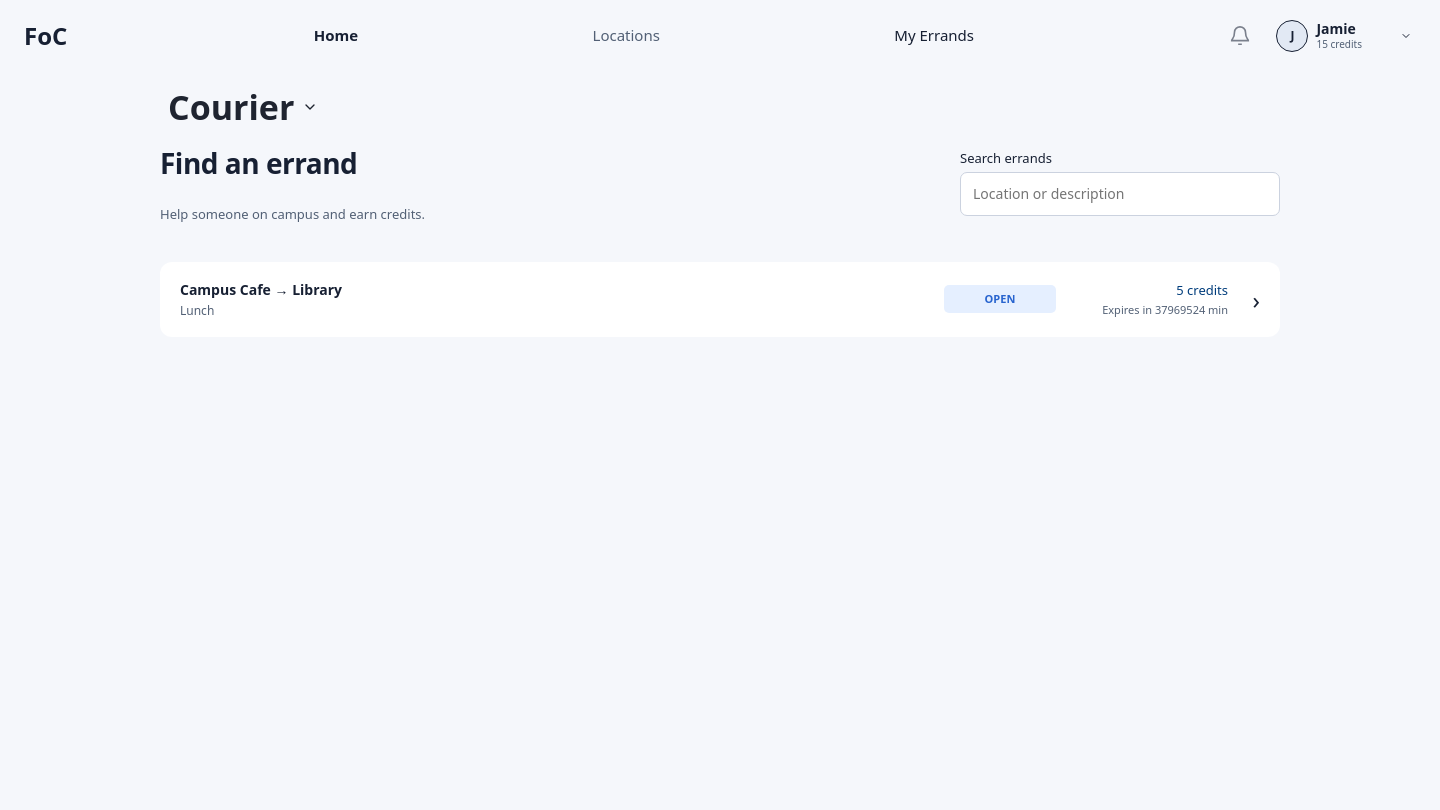
Test: shows account preparation after rejected acceptance without reporting success
Click the link that starts with "Campus Cafe" at (225, 289), box [160, 262, 1280, 337]
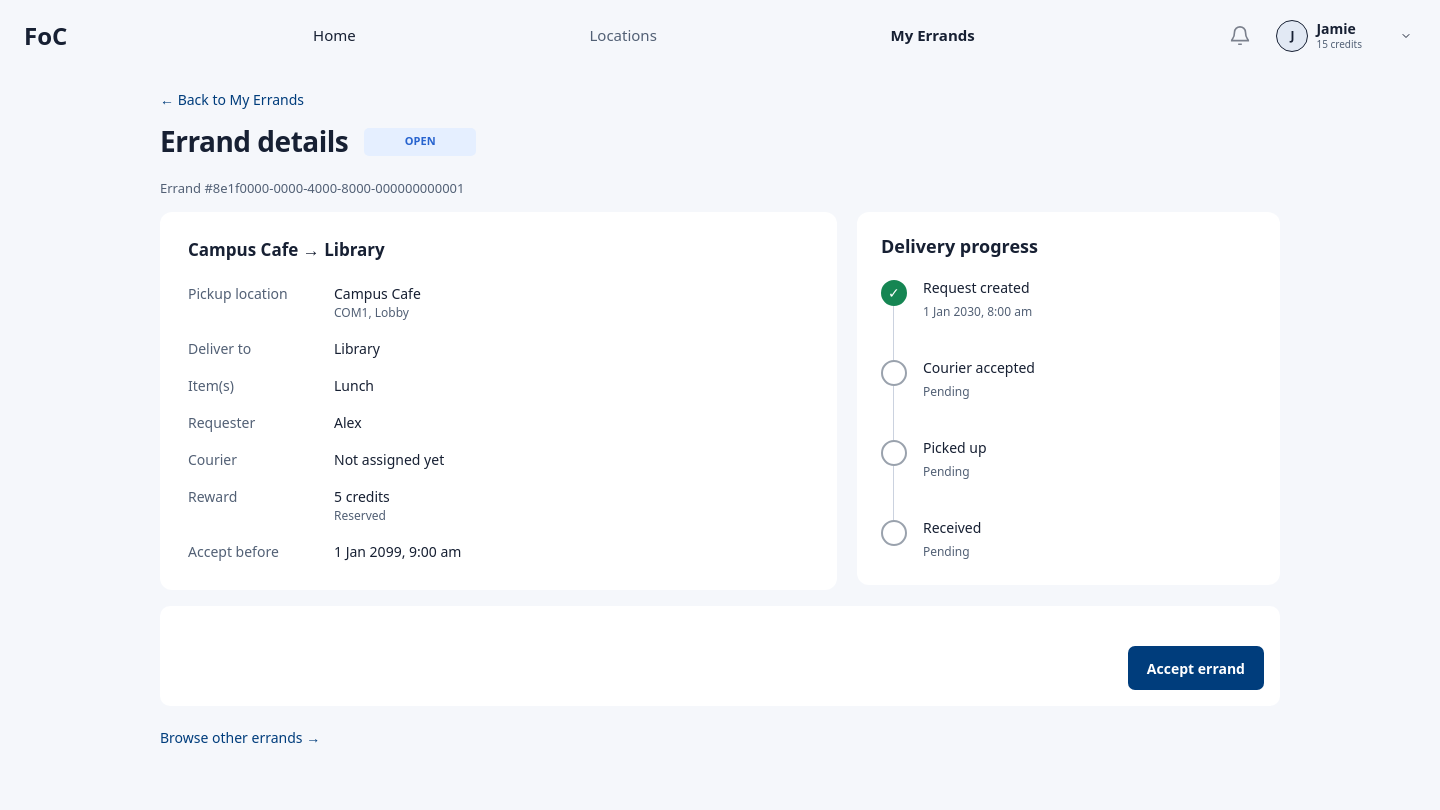
expect the text "COM1, Lobby" is shown: met, box [334, 304, 409, 321]
Click the button "Accept errand" at (1196, 668), box [1128, 646, 1264, 690]
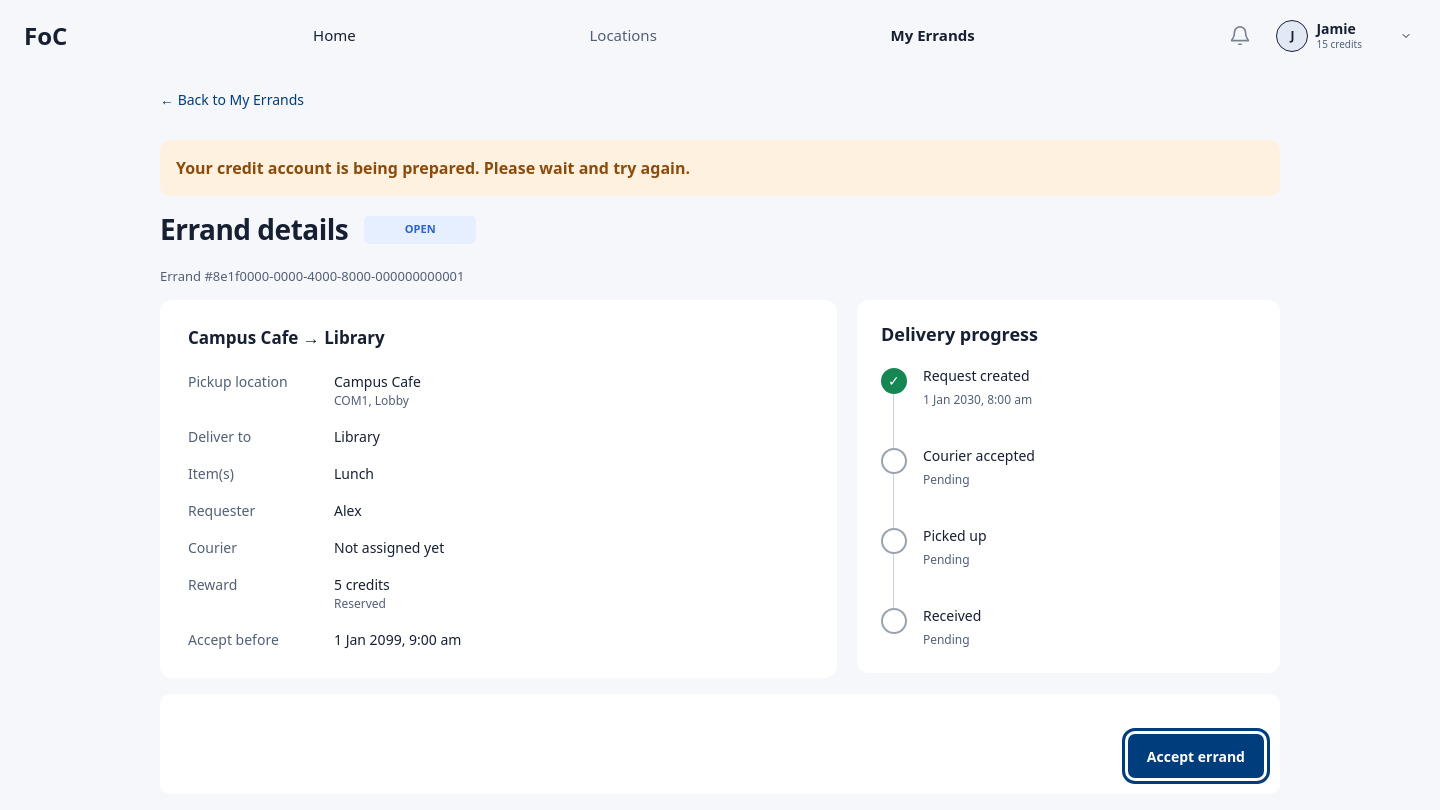
expect the text "Your credit account is being prepared. Please wait and try again." is shown: met, box [176, 157, 690, 179]
